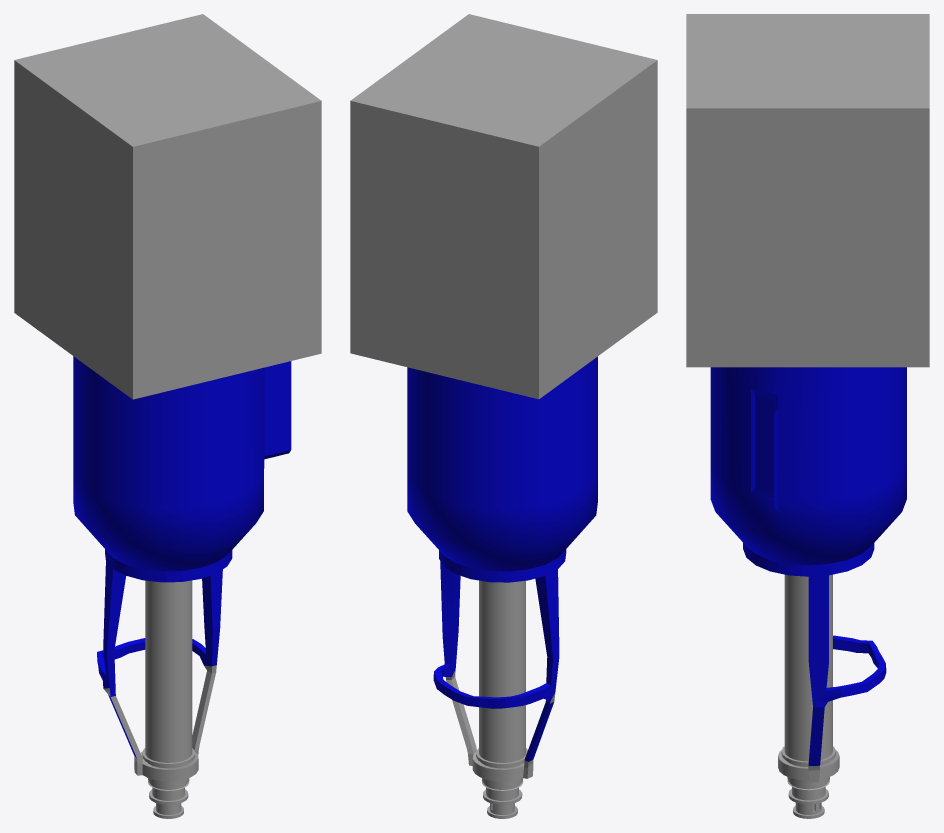
The model's file is intento.fbx.
3 views of the same model, side by side, from view 1: azimuth 30°, elevation 25°; view 2: azimuth 150°, elevation 25°; view 3: azimuth 270°, elevation 25° (orthographic). The views are drawn at different scales.
Parts seen in each view (by area): view 1: pCube1, tubocolor:pCylinder1; view 2: pCube1, tubocolor:pCylinder1; view 3: pCube1, tubocolor:pCylinder1.
Boxes of the visible parts, x1,y1,x2,y2 form: pCube1: (14, 14, 321, 399); tubocolor:pCylinder1: (73, 356, 291, 818); pCube1: (350, 14, 657, 399); tubocolor:pCylinder1: (407, 356, 597, 818); pCube1: (686, 14, 929, 367); tubocolor:pCylinder1: (710, 367, 906, 818).
Size of the model in its own units: 81.96 by 285 by 83.72.
